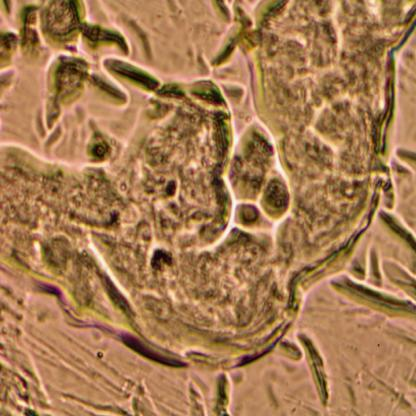Normal: (0, 0, 335, 382)
